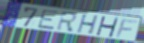7: (23, 6, 40, 28)
E: (36, 9, 60, 31)
F: (115, 19, 139, 39)
H: (75, 14, 100, 36), (95, 16, 119, 38)
R: (56, 11, 80, 33)
